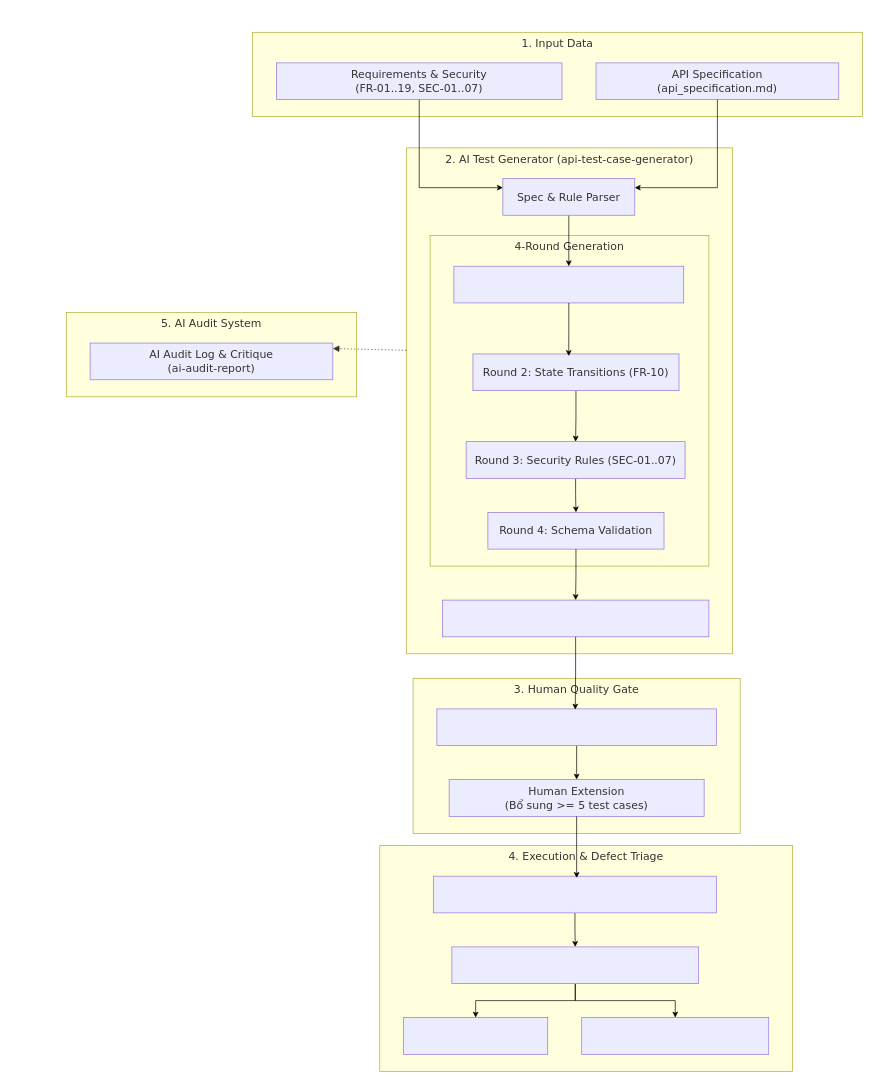
This 874x1083 diagram has some shape labels left out. The shapes that lost their labels are listed below. From the top down, each one's centre as x and y in pixels, then its label:
At [568,284]: "Round 1: Domain Partitioning (BVA/EP)".
At [575,618]: "Deduplication & Coverage Check (>= 35 cases)".
At [576,727]: "Human Review (VALID / INVALID / INCOMPLETE)".
At [574,894]: "Postman Collection (Inject Header X-Student-Id)".
At [575,965]: "Newman CLI Runner (HTML Extra Report)".
At [475,1035]: "GitHub Actions CI/CD".
At [675,1035]: "Bug Reporter (GitHub Issues)".
